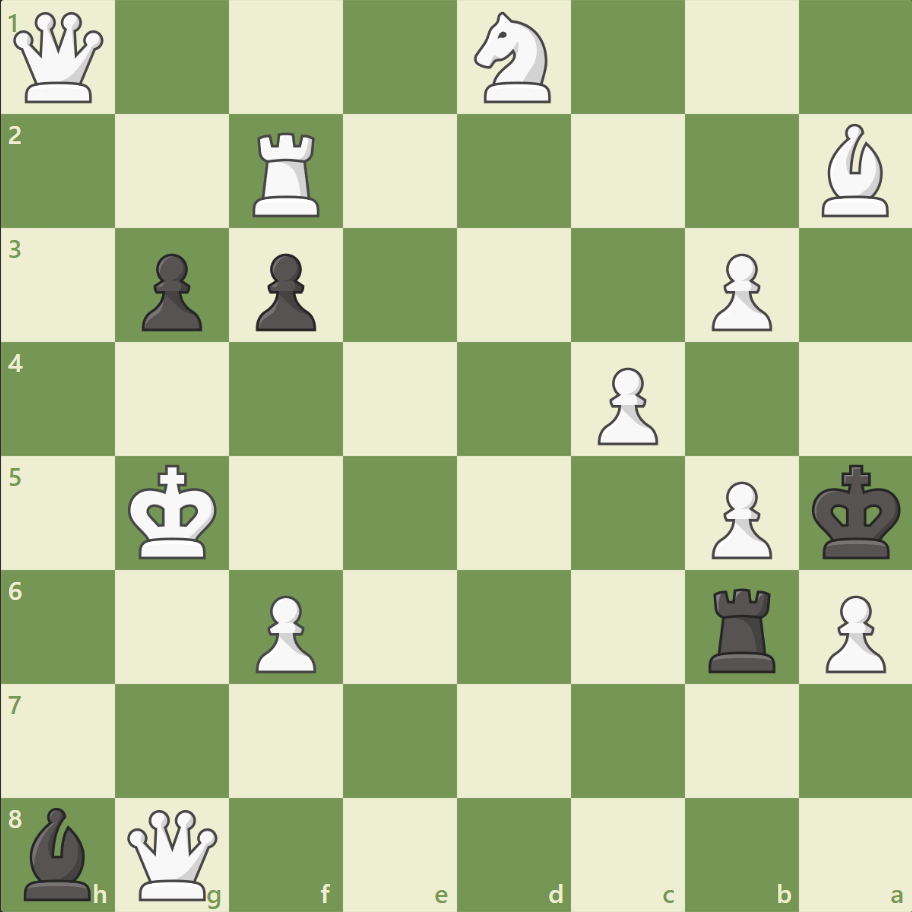B: (812, 120, 896, 222)
K: (124, 458, 224, 566)
N: (465, 7, 562, 110)
P: (247, 586, 322, 677), (701, 473, 776, 564), (701, 246, 776, 337), (815, 586, 889, 677), (588, 359, 662, 450)
Q: (124, 804, 223, 903), (10, 9, 109, 108)
R: (246, 125, 329, 222)
b: (17, 801, 101, 904)
k: (806, 458, 906, 566)
p: (247, 246, 322, 337), (133, 246, 208, 337)
r: (700, 579, 783, 676)
